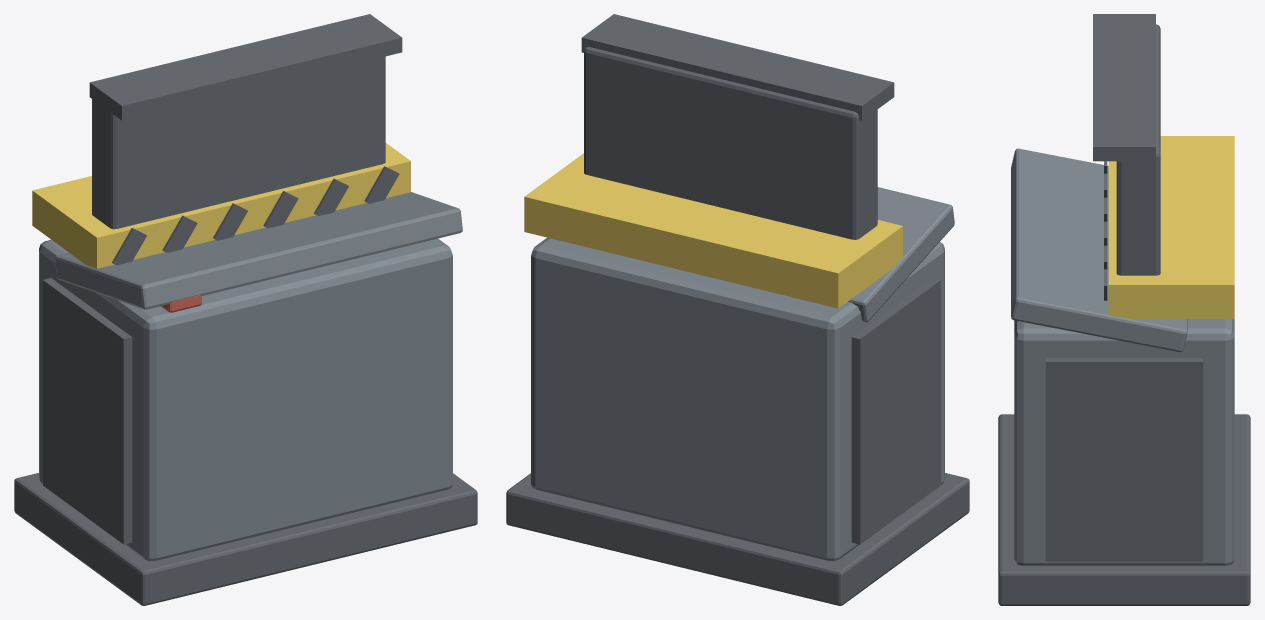
The model's file is obj_console.fbx.
3 views of the same model, side by side, from view 1: azimuth 30°, elevation 25°; view 2: azimuth 150°, elevation 25°; view 3: azimuth 270°, elevation 25° (orthographic). The views are drawn at different scales.
Visible parts, largest first — view 1: obj_console; view 2: obj_console; view 3: obj_console.
Part boxes in pixels (x1,y1,x2,y2): obj_console: (14,14,477,605); obj_console: (506,14,969,605); obj_console: (998,14,1250,605).
Size of the model in its own units: 1.2 by 1.56 by 0.8.
